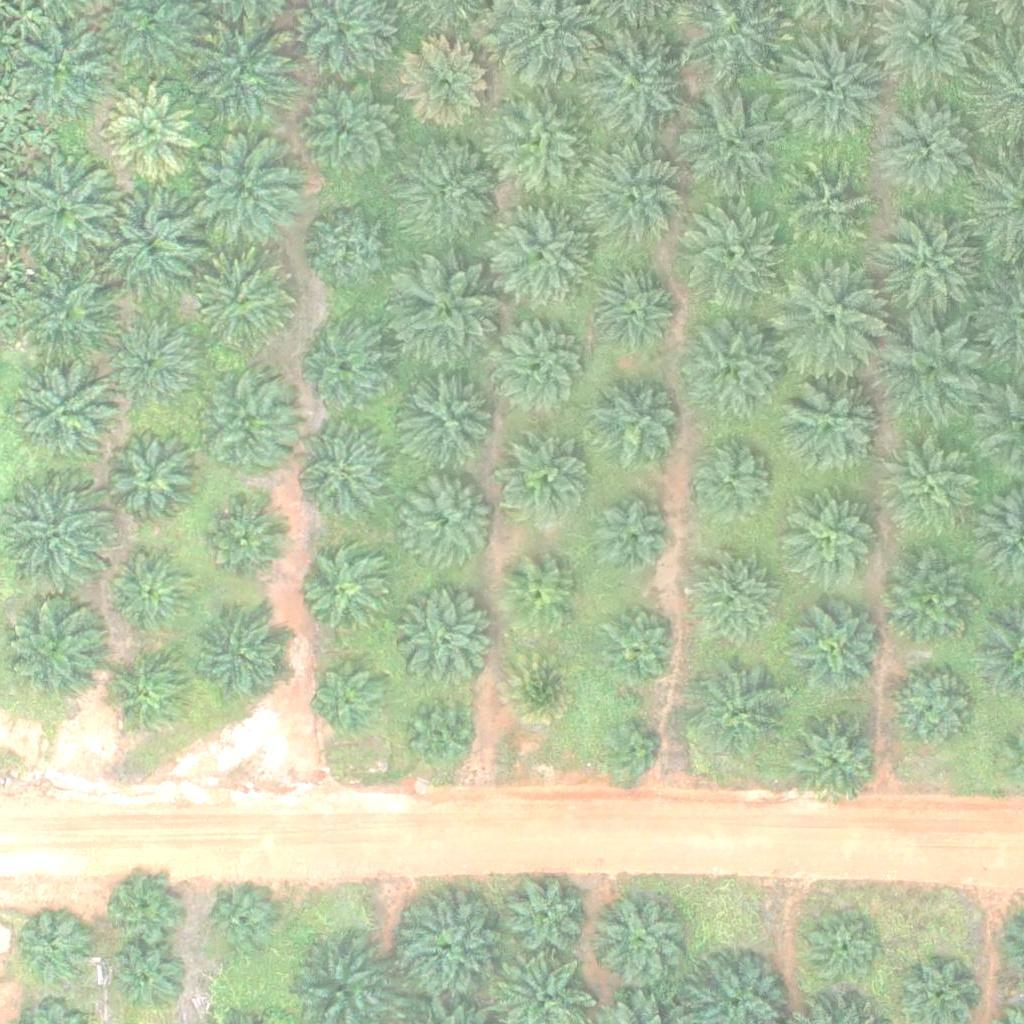Kelapa_Sawit: (187, 139, 300, 253), (871, 204, 984, 317), (580, 27, 693, 140), (2, 479, 115, 592), (188, 14, 301, 127), (11, 154, 123, 268), (96, 188, 208, 302), (877, 311, 989, 424), (775, 260, 887, 373), (674, 199, 786, 312), (774, 27, 886, 140), (678, 86, 790, 199), (396, 262, 508, 375), (884, 433, 984, 534), (883, 550, 983, 651), (782, 375, 882, 476), (781, 491, 881, 592), (685, 319, 785, 420), (582, 141, 682, 242), (493, 92, 593, 193), (17, 267, 117, 368), (19, 370, 119, 471), (300, 78, 400, 179), (402, 138, 502, 239), (195, 606, 295, 707), (8, 592, 108, 693), (396, 893, 496, 994), (784, 708, 884, 808), (690, 658, 790, 758), (492, 204, 592, 304), (490, 315, 590, 415), (6, 18, 106, 118), (194, 254, 294, 354), (198, 386, 298, 486), (400, 472, 500, 572), (396, 590, 496, 690), (785, 161, 873, 250), (105, 648, 193, 737), (889, 664, 977, 752), (503, 435, 591, 523), (400, 39, 488, 127), (103, 318, 191, 406), (105, 435, 193, 523), (406, 375, 494, 463), (207, 496, 295, 584), (108, 547, 196, 635), (794, 604, 881, 692), (688, 435, 775, 523), (690, 547, 777, 635), (587, 265, 674, 353), (593, 384, 680, 472), (886, 104, 973, 192), (107, 84, 194, 172), (308, 206, 395, 294), (309, 324, 396, 412), (300, 430, 387, 518), (306, 549, 393, 637), (501, 871, 588, 959), (595, 897, 682, 985), (503, 560, 578, 636), (593, 499, 668, 575), (806, 914, 881, 990), (600, 608, 675, 684), (504, 649, 579, 725), (402, 698, 477, 774), (312, 657, 387, 732), (18, 910, 93, 985), (102, 868, 177, 943), (106, 946, 181, 1021), (204, 883, 279, 958), (602, 721, 664, 784)
